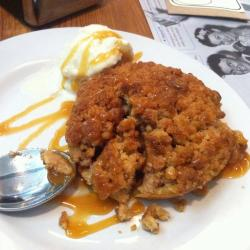apple_pie: (71, 61, 233, 202)
icecream: (55, 23, 131, 91)
